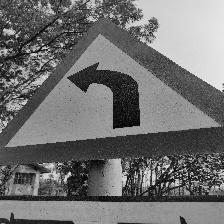Left-Turn: (0, 13, 224, 224)
